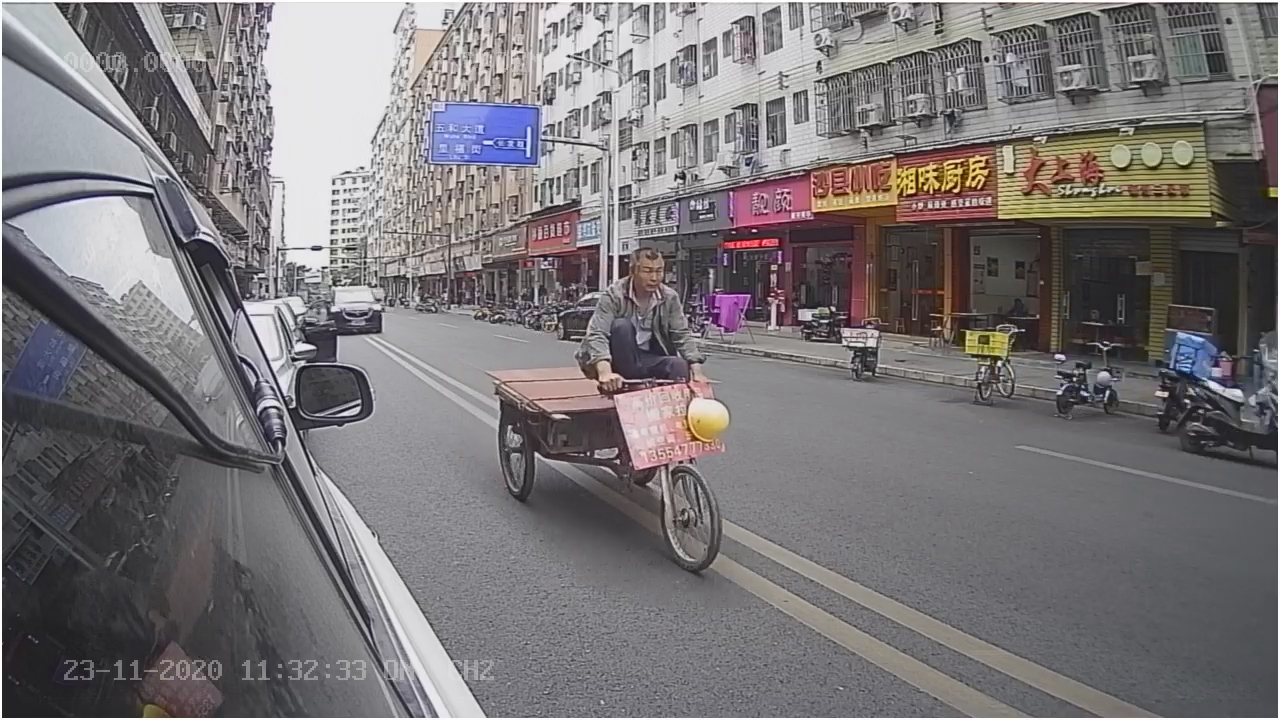person: (575, 243, 711, 390)
